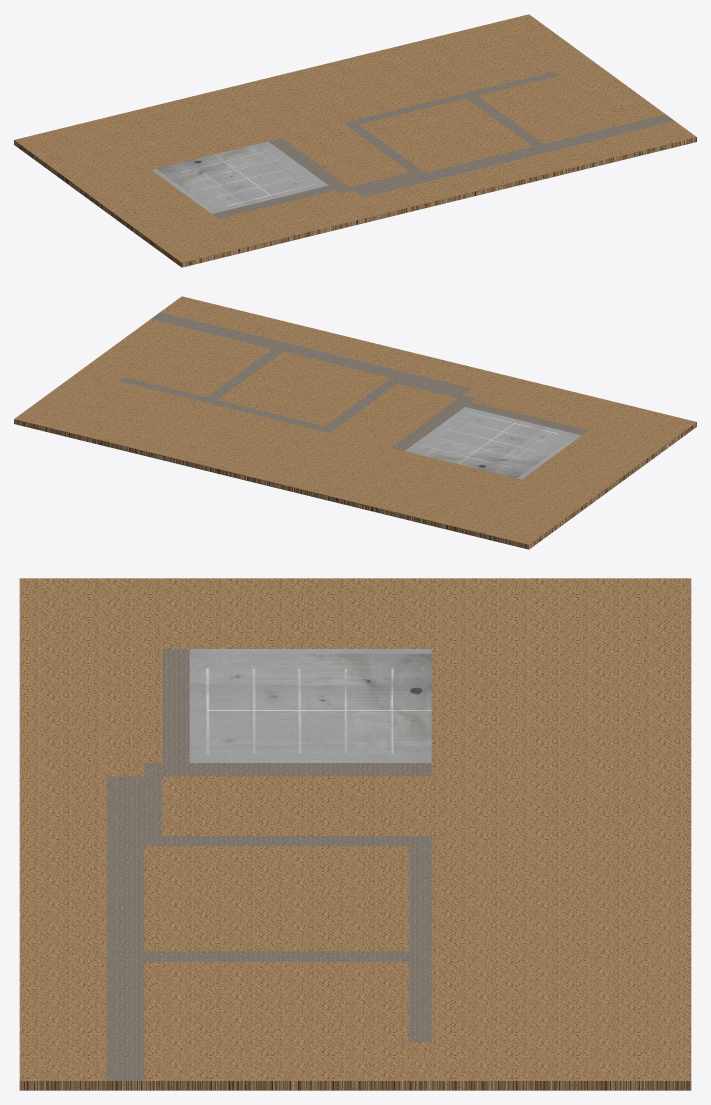
File: powierzchnia.FBX
3 views of the same model, one above another, from view 1: azimuth 30°, elevation 25°; view 2: azimuth 150°, elevation 25°; view 3: azimuth 270°, elevation 25° (orthographic). The views are drawn at different scales.
Visible parts, largest first — view 1: Box001; view 2: Box001; view 3: Box001.
Boxes of the visible parts, x1,y1,x2,y2 form: Box001: (14,14,696,267); Box001: (14,296,696,549); Box001: (19,578,691,1090).
Size of the model in its own units: 136 by 1.23 by 76.89.
Materials: 3 (3 with a texture image).
